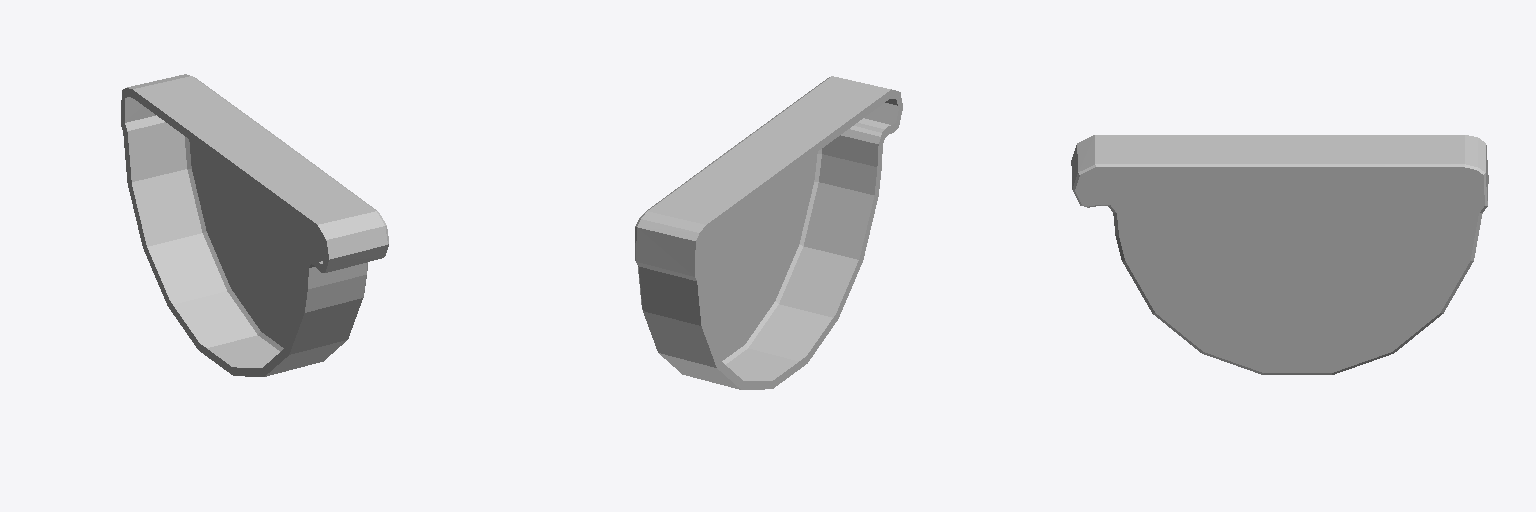
Rendered from end_right.obj.
3 views of the same model, side by side, from view 1: azimuth 30°, elevation 25°; view 2: azimuth 150°, elevation 25°; view 3: azimuth 270°, elevation 25° (orthographic).
Visible parts, largest first — view 1: end_right; view 2: end_right; view 3: end_right.
Boxes of the visible parts, box(x1,y1,x2,y2) form: end_right: box(121, 74, 388, 376); end_right: box(635, 76, 902, 389); end_right: box(1071, 135, 1488, 374).
Bounding box in the file's own units: 25.75 × 84.49 × 150.